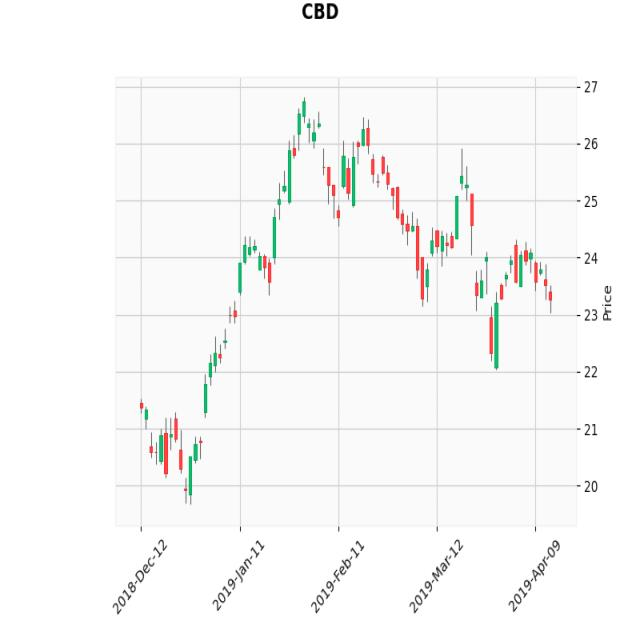Double-Top: (268, 89, 412, 252)
